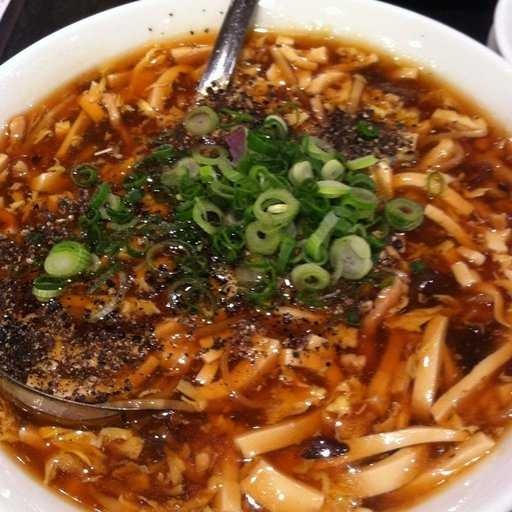soup: (1, 22, 505, 498)
